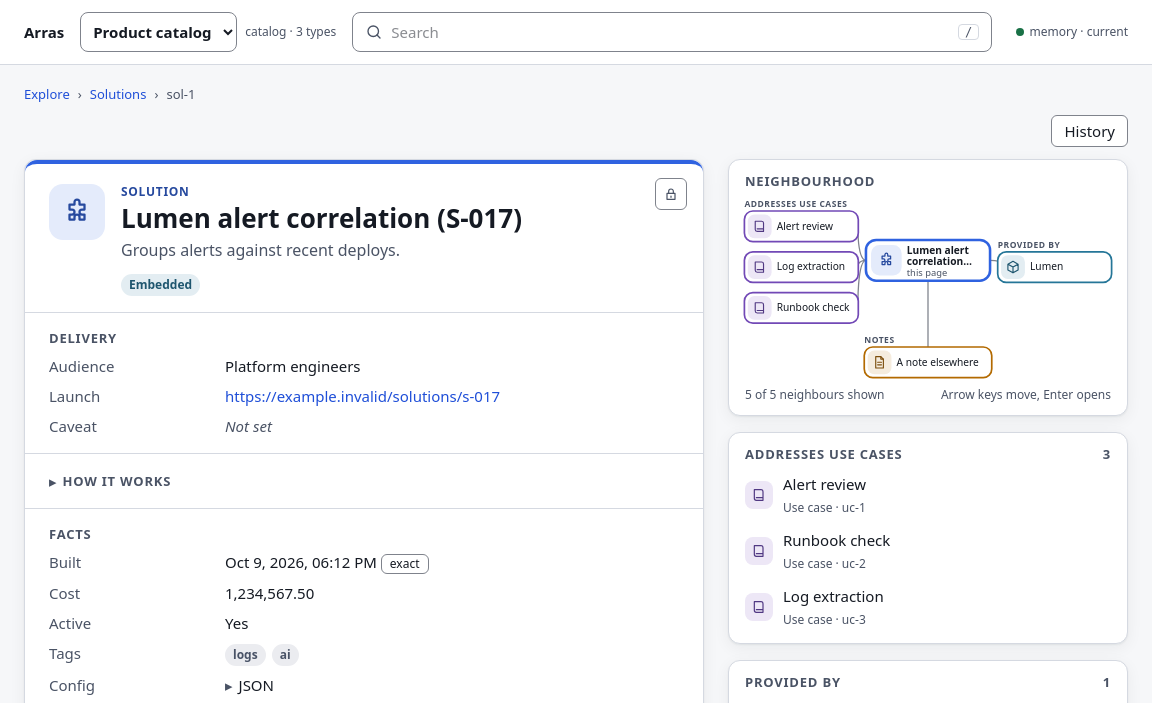
Retire on a node page (FR-68) › names what goes with the entity by group, says the key is spent and there is no undo
The width and height of the screenshot is (1152, 703).
Click the button named "Edit mode": (671, 194) 655,178 -> 687,210
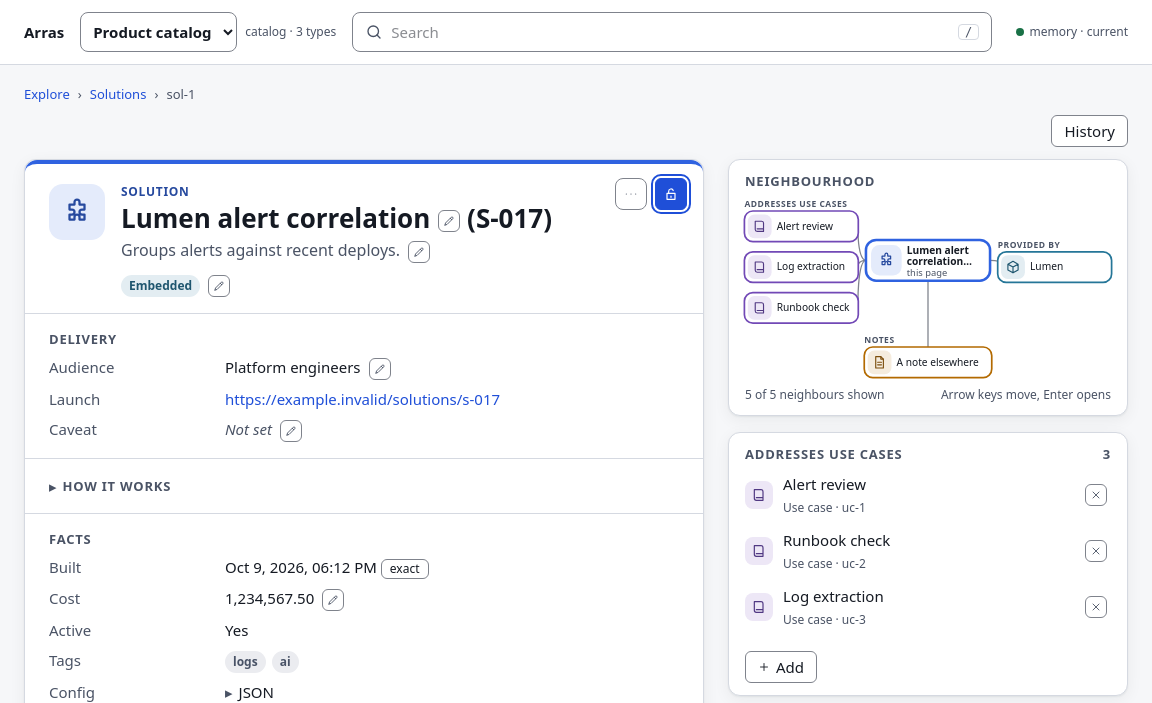
Click the button named "Entity menu": (631, 194) 615,178 -> 647,210
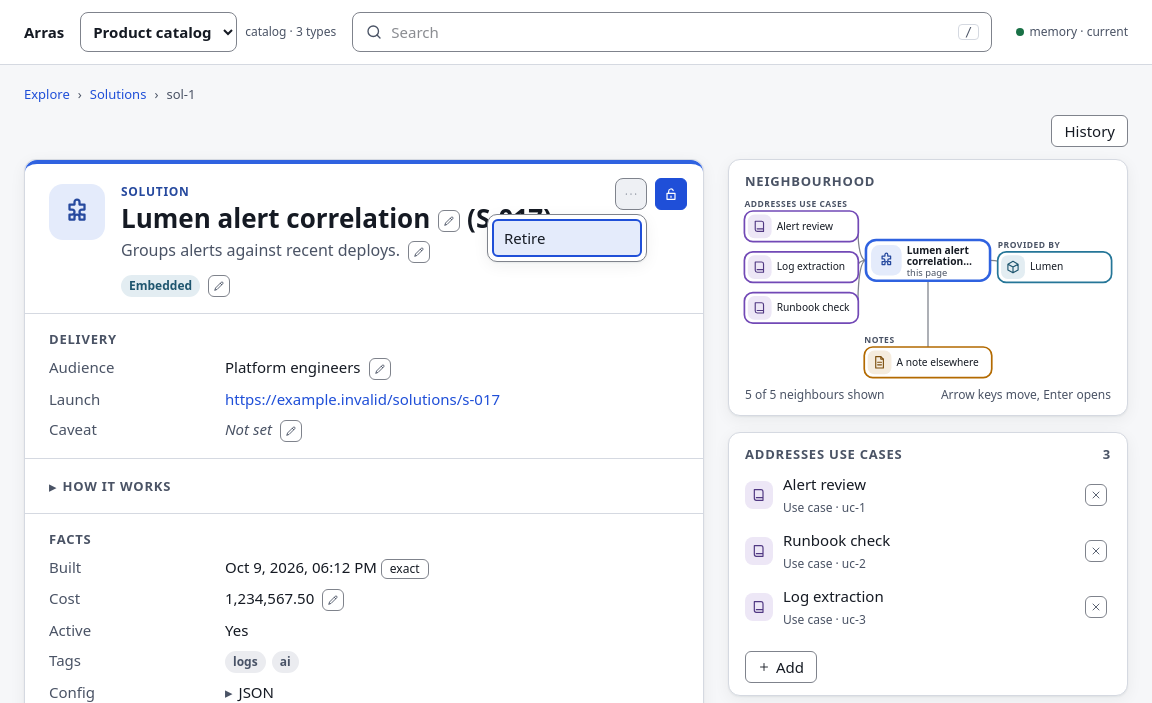
Click the menu item "Retire": (567, 238) 492,219 -> 642,257
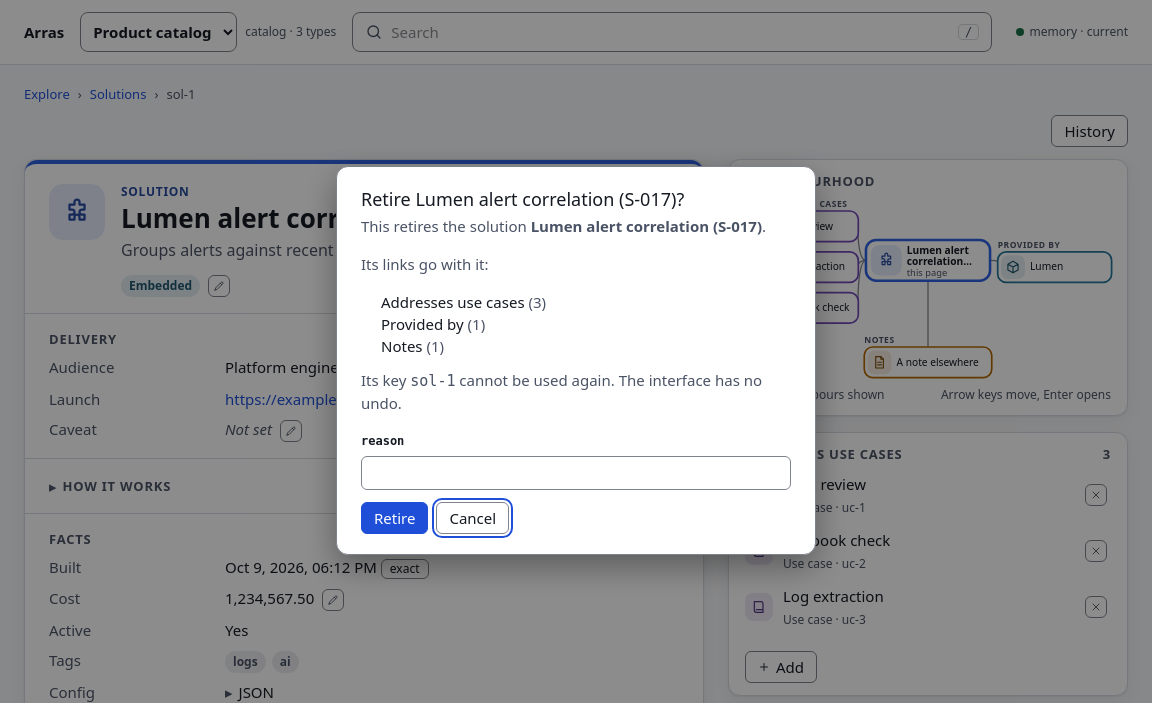
Expected: the list with test id "retire-groups" shows "Addresses use cases (3)", 381,292 -> 546,356
Expected: the list with test id "retire-groups" shows "Provided by (1)", 381,292 -> 546,356
Expected: the list with test id "retire-groups" shows "Notes (1)", 381,292 -> 546,356
